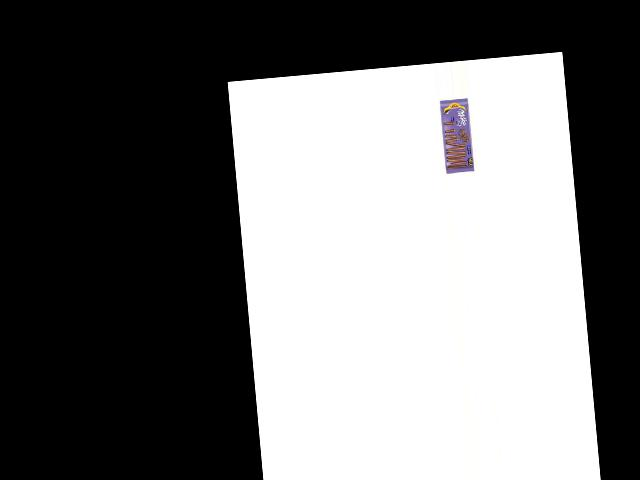chocolate: (435, 97, 475, 175)
